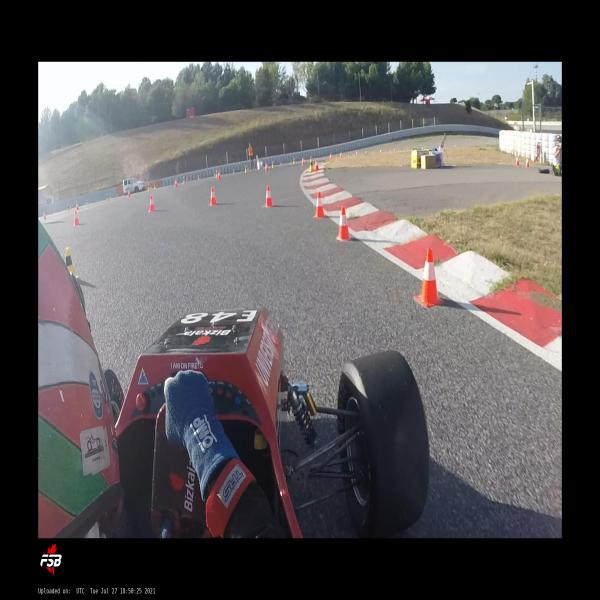orange_cone: (415, 248, 445, 307), (336, 206, 352, 241), (313, 191, 326, 218), (264, 185, 274, 207), (210, 186, 218, 205), (148, 194, 155, 212), (73, 209, 80, 226), (314, 159, 319, 171), (174, 179, 178, 188), (217, 170, 221, 179), (526, 156, 529, 167), (302, 156, 305, 166), (516, 156, 519, 166), (265, 164, 268, 172), (128, 188, 130, 198), (44, 212, 46, 220), (330, 153, 332, 161)
yellow_cone: (65, 247, 79, 279), (309, 161, 314, 172), (106, 193, 110, 201), (147, 181, 150, 191), (215, 169, 218, 178), (245, 165, 248, 173), (183, 176, 185, 184), (272, 161, 274, 168), (293, 158, 295, 164), (154, 184, 156, 189), (110, 194, 111, 198)
